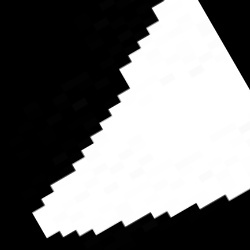spot: (33, 2, 248, 238)
